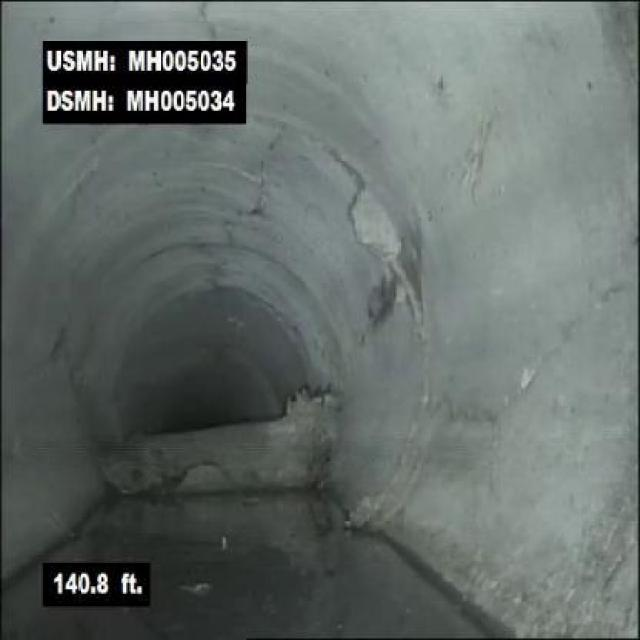Crack: (506, 286, 634, 414), (431, 385, 502, 432), (254, 124, 286, 190), (196, 4, 227, 38)
